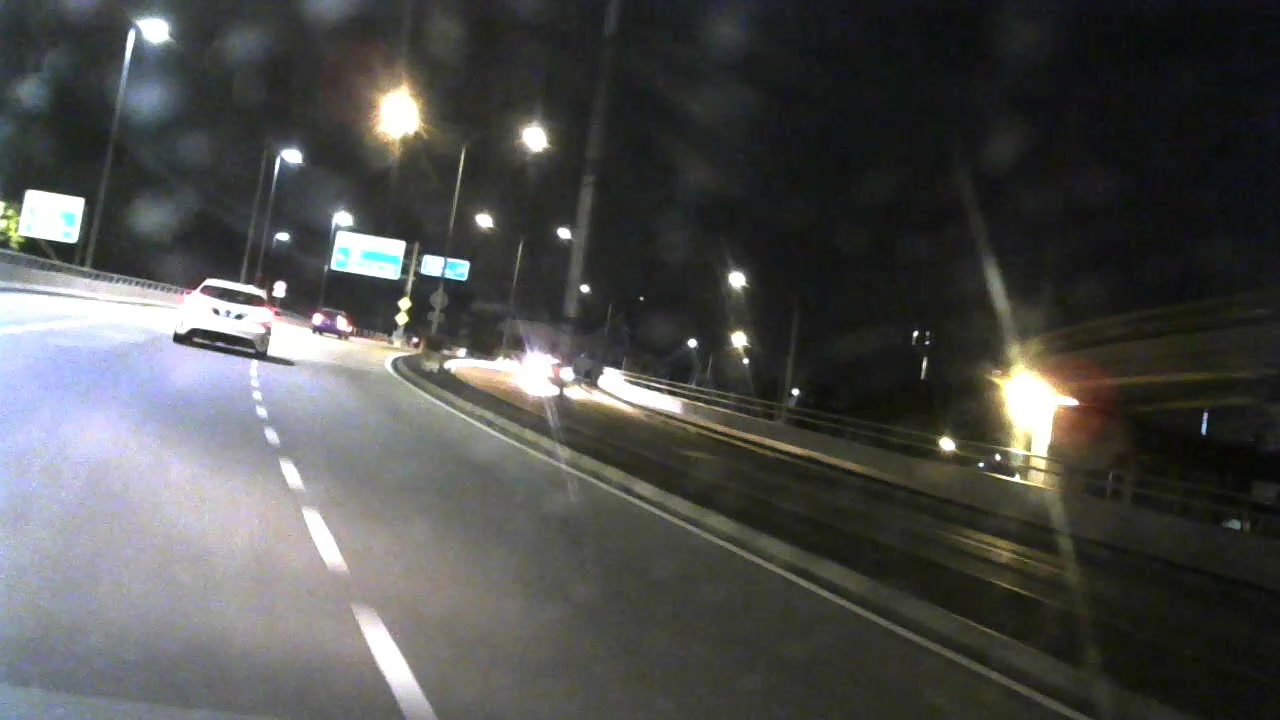Car: (176, 269, 278, 362), (301, 305, 358, 344)
